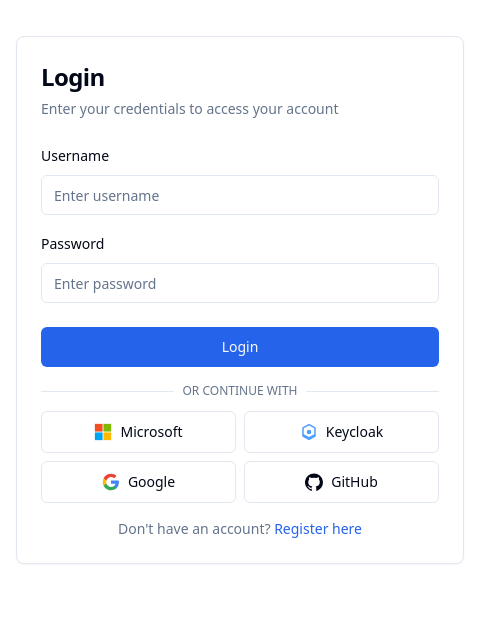
Test case: Login › shows error message on login failure
This screenshot has width=481, height=621.
Type "wronguser" into the field labelled "Username" at {"x": 240, "y": 195}, box [41,175,439,215]
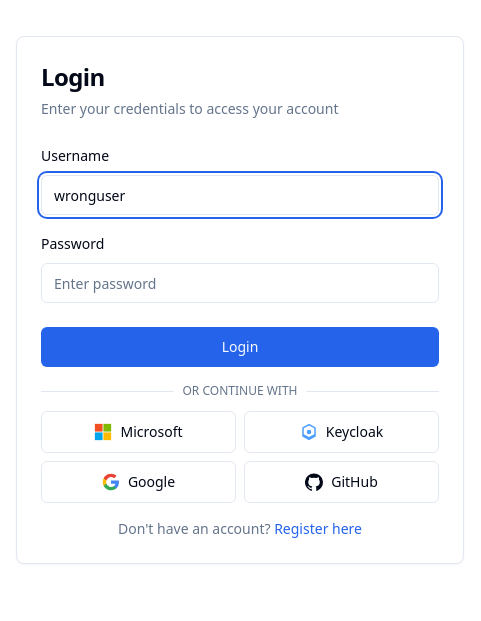
Type "wrongpass" into the password field labelled "Password" at {"x": 240, "y": 283}, box [41,263,439,303]
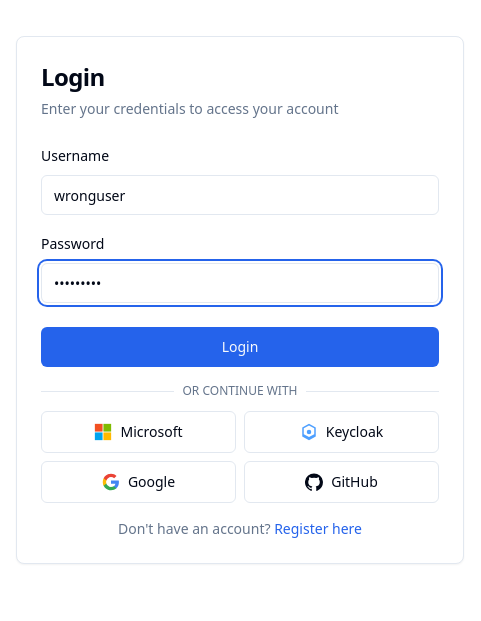
Click the button "Login" at {"x": 240, "y": 347}, box [41,327,439,367]
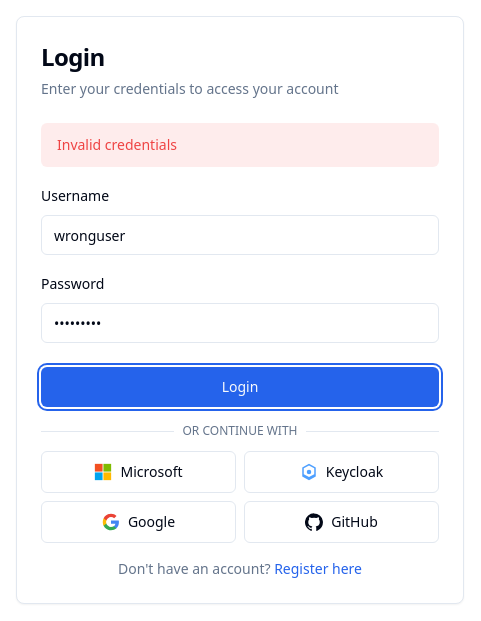
Check: the text "Invalid credentials" is shown, box [41,123,439,167]
